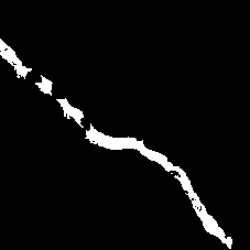crack: (2, 39, 232, 247)
